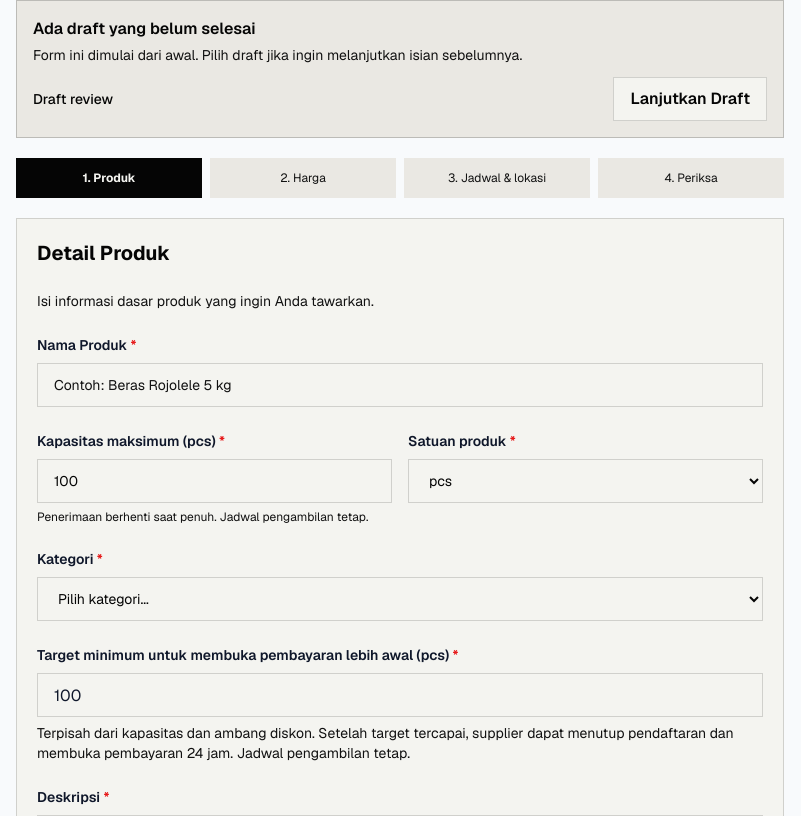
Test: guided supplier offer › requires renewed approval when explicitly resuming the review step
Click the button "Lanjutkan Draft": [690, 99] box [613, 77, 767, 121]
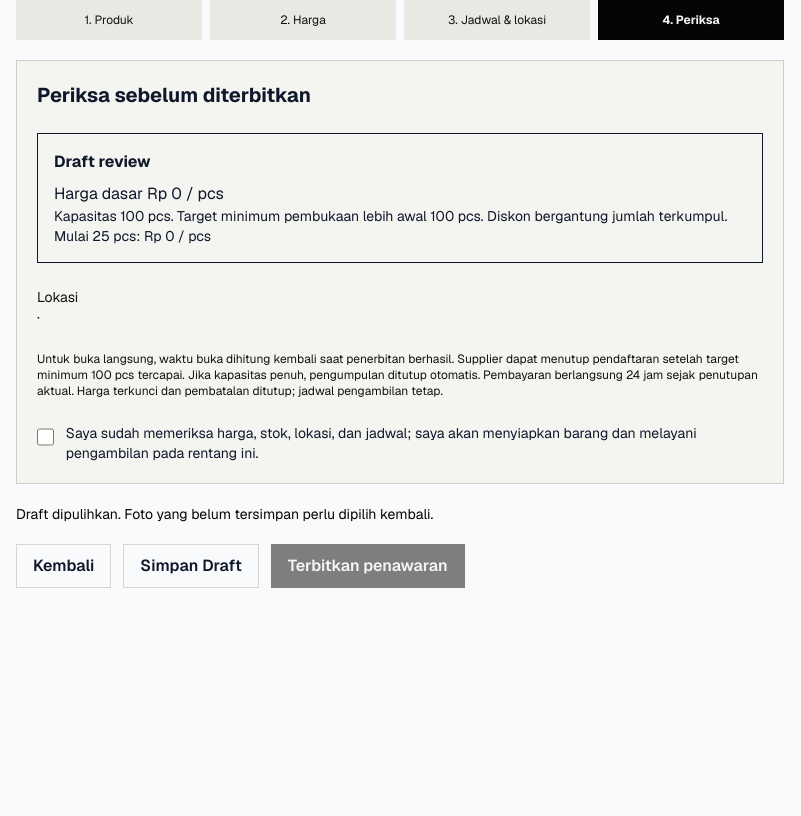
Result: the checkbox is not checked at [37, 427, 54, 447]
Result: the button "Terbitkan penawaran" is disabled at [271, 544, 465, 588]
